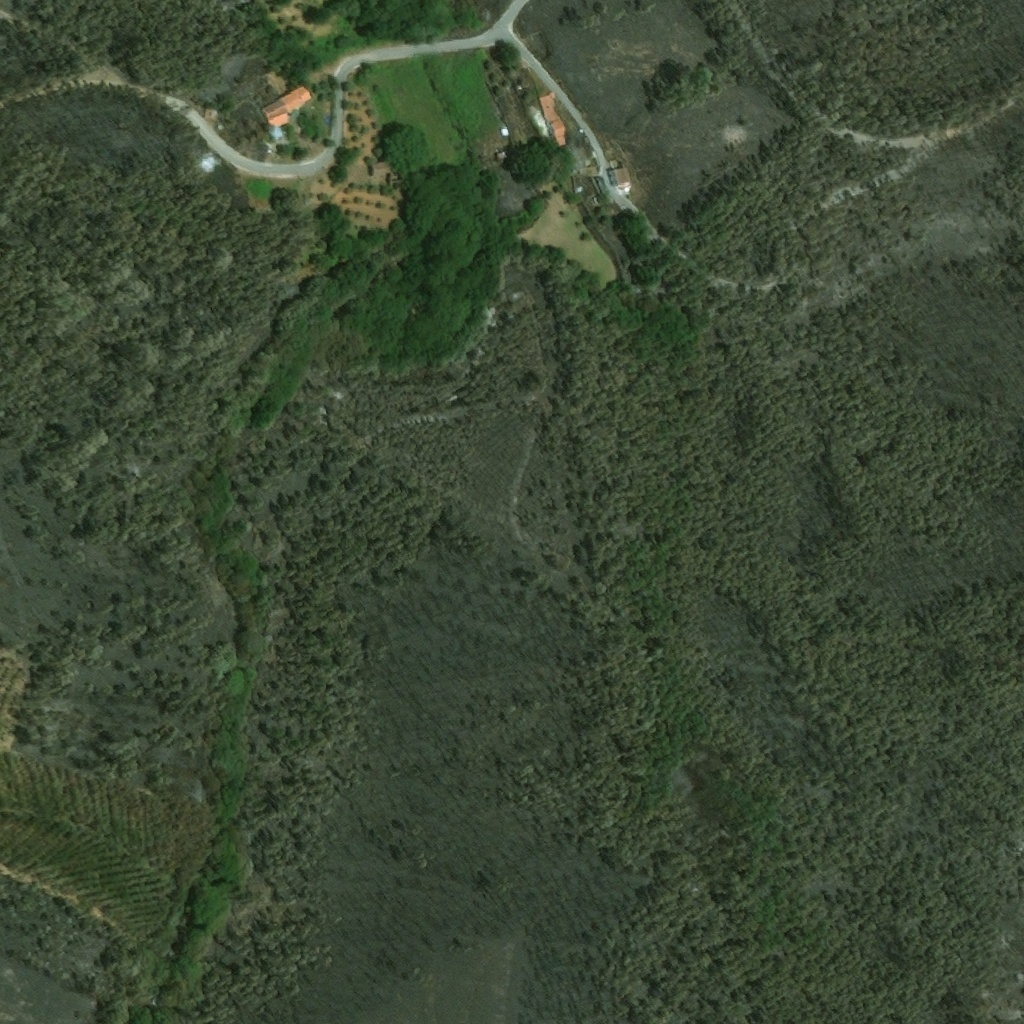0 no-damage: (259, 85, 311, 129), (536, 91, 567, 150), (370, 159, 404, 183), (607, 165, 631, 188), (495, 149, 520, 162), (209, 109, 218, 119), (500, 127, 509, 137)
